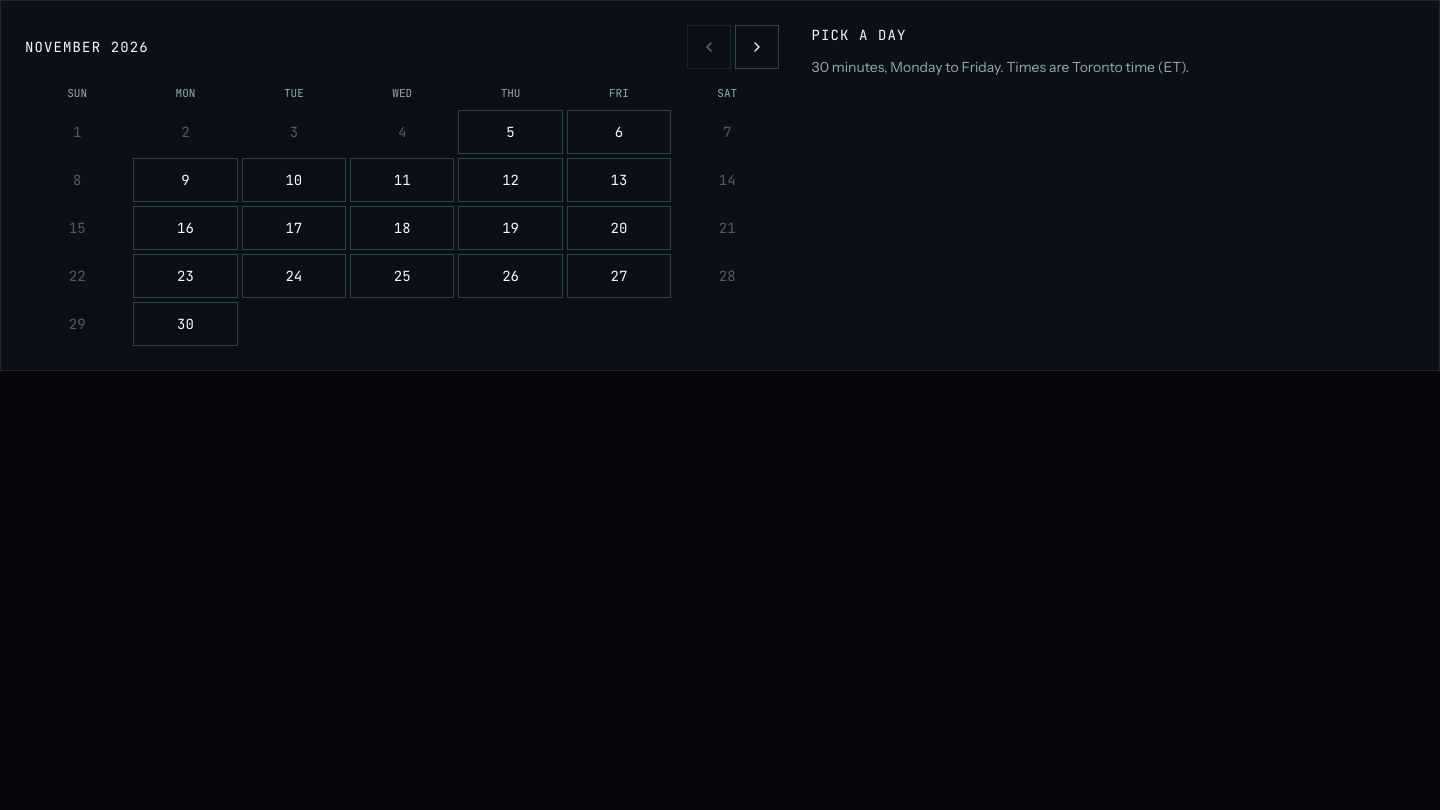
Test: MeetingPicker › can't go back before this month or past the booking window
Expected: the button named "Previous month" is disabled, [687,25,731,69]
Click the button named "Next month" at (757, 47), box [735,25,779,69]
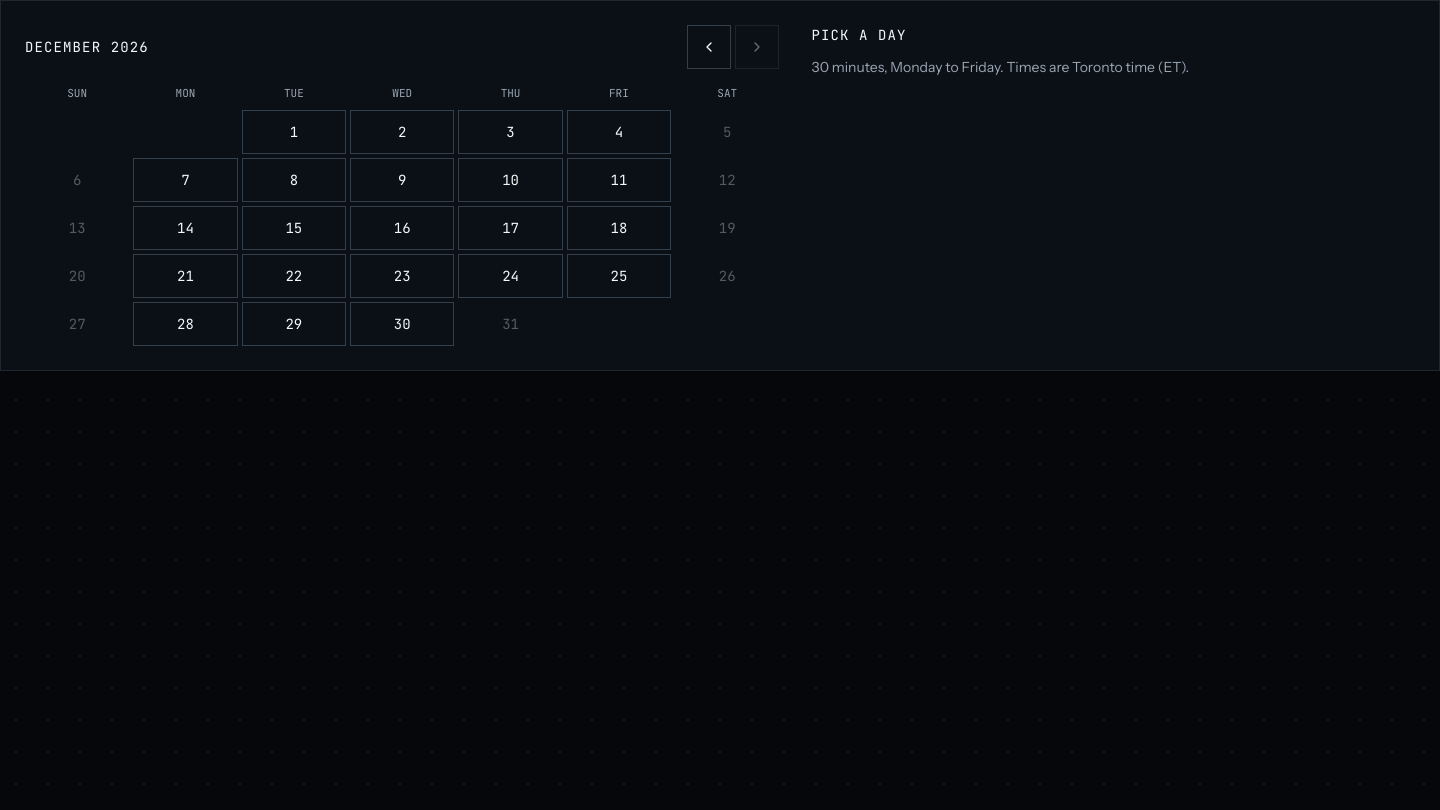
Expected: the heading "December 2026" is shown, [25,37,149,57]
